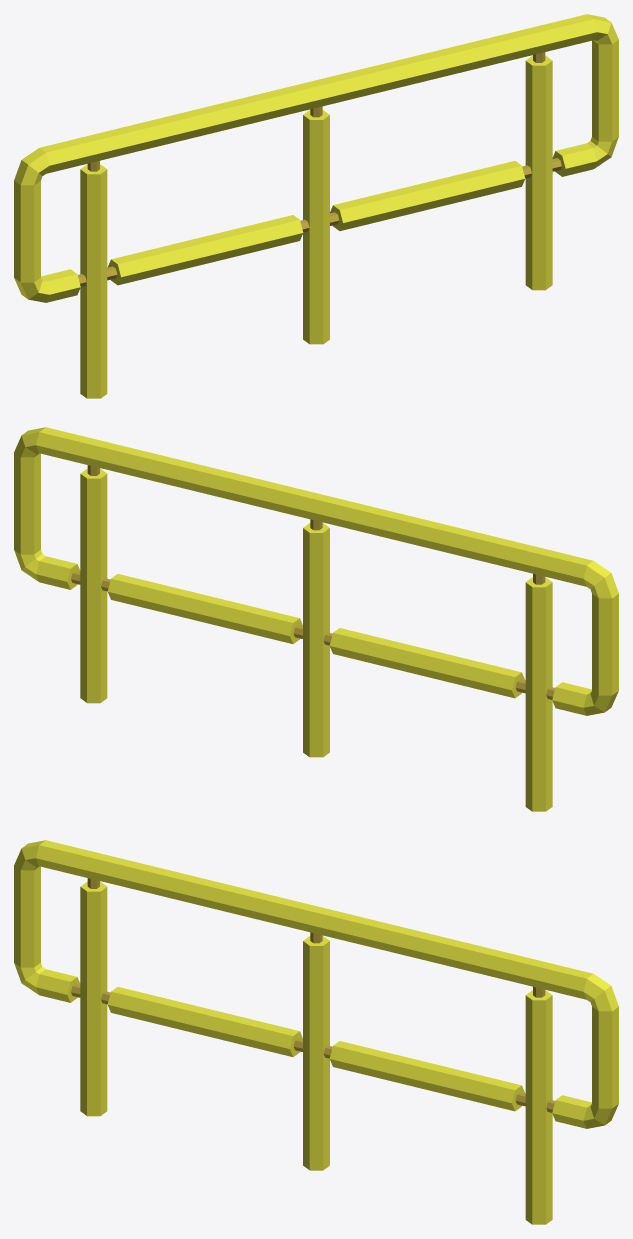
The model's file is BarriereDouble.fbx.
3 views of the same model, one above another, from view 1: azimuth 30°, elevation 25°; view 2: azimuth 150°, elevation 25°; view 3: azimuth 330°, elevation 25° (orthographic).
Parts seen in each view (by area): view 1: Cube.012; view 2: Cube.012; view 3: Cube.012.
Part boxes in pixels (x1=…): Cube.012: x1=14, y1=14, x2=618, y2=398; Cube.012: x1=14, y1=427, x2=618, y2=811; Cube.012: x1=14, y1=840, x2=618, y2=1224.
Size of the model in its own units: 484 by 198 by 18.88.
